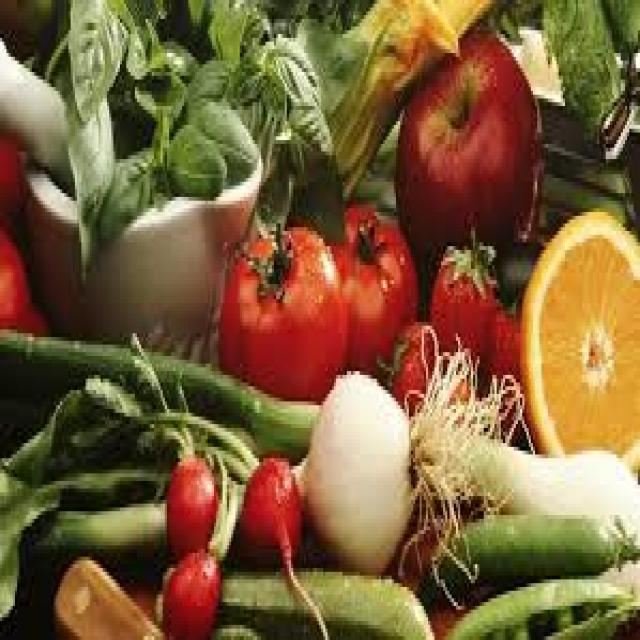organic waste: (289, 322, 520, 602), (0, 322, 321, 451), (392, 27, 542, 265), (328, 0, 503, 197), (518, 204, 638, 466), (0, 371, 261, 485), (432, 428, 638, 568), (0, 386, 118, 621), (218, 215, 345, 398), (154, 561, 430, 636), (419, 511, 638, 602), (326, 197, 420, 375), (240, 451, 328, 636), (156, 447, 238, 636), (13, 492, 165, 576), (443, 576, 638, 636), (60, 53, 111, 280), (539, 0, 620, 136), (428, 224, 497, 371), (0, 30, 68, 177), (293, 15, 368, 121), (66, 0, 126, 117), (186, 87, 257, 178), (263, 53, 330, 148), (0, 208, 49, 334), (98, 144, 156, 238), (246, 34, 319, 102), (374, 318, 432, 398), (162, 121, 225, 193), (482, 303, 518, 428), (254, 140, 300, 224), (133, 64, 188, 125), (126, 326, 165, 405), (84, 371, 146, 413), (124, 12, 165, 68), (184, 49, 229, 95), (0, 129, 24, 212), (217, 4, 250, 64), (486, 0, 541, 34), (599, 0, 637, 45), (148, 102, 167, 174), (165, 38, 197, 76), (205, 0, 225, 49), (208, 617, 252, 636), (272, 0, 347, 11), (172, 363, 188, 412), (188, 0, 204, 19)
